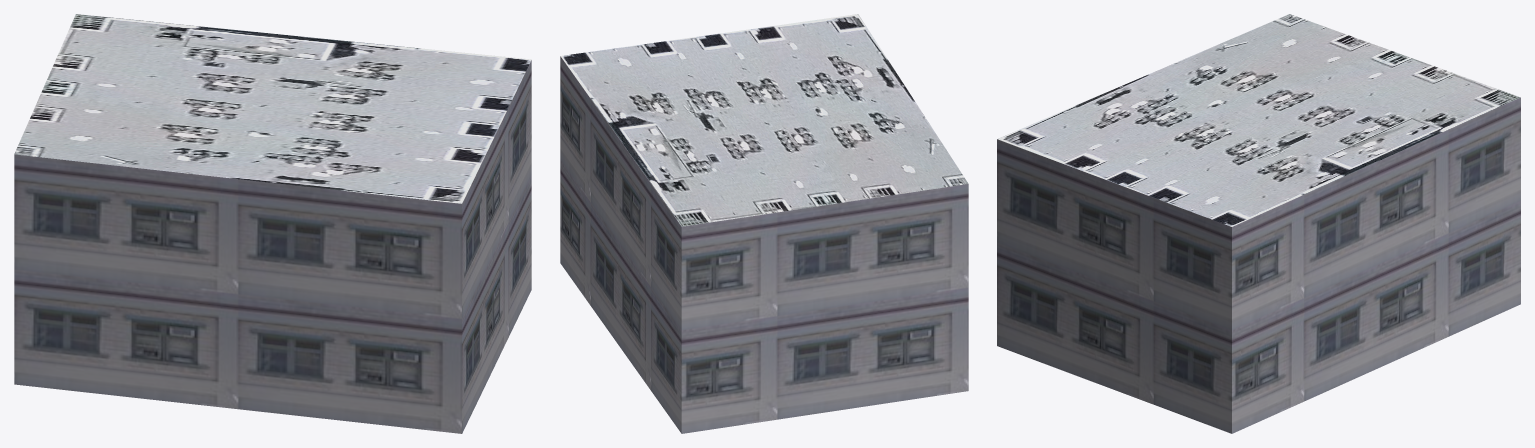
The model's file is ResTex__1734.fbx.
3 views of the same model, side by side, from view 1: azimuth 30°, elevation 25°; view 2: azimuth 150°, elevation 25°; view 3: azimuth 270°, elevation 25° (orthographic). The views are drawn at different scales.
Parts seen in each view (by area): view 1: CityEngineMaterial_1_m, CityEngineMaterial_m; view 2: CityEngineMaterial_1_m, CityEngineMaterial_m; view 3: CityEngineMaterial_1_m, CityEngineMaterial_m.
Part boxes in pixels (box(x1,y1,x2,y2)): CityEngineMaterial_1_m: box(14, 60, 531, 433); CityEngineMaterial_m: box(14, 14, 531, 203); CityEngineMaterial_1_m: box(560, 56, 968, 433); CityEngineMaterial_m: box(560, 14, 968, 226); CityEngineMaterial_1_m: box(997, 97, 1520, 433); CityEngineMaterial_m: box(997, 14, 1520, 226).
Bounding box in the file's own units: 13.25 × 6 × 13.76.
Materials: 2 (2 with a texture image).
